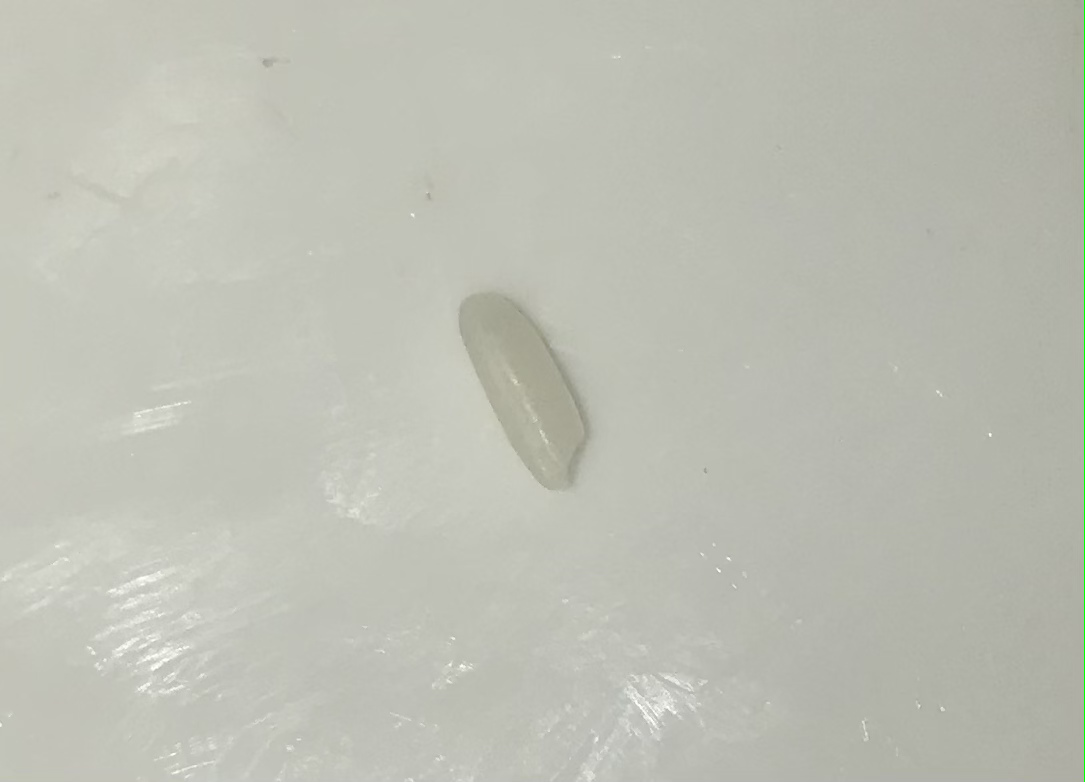Gao Lai Sua: (454, 287, 594, 496)
